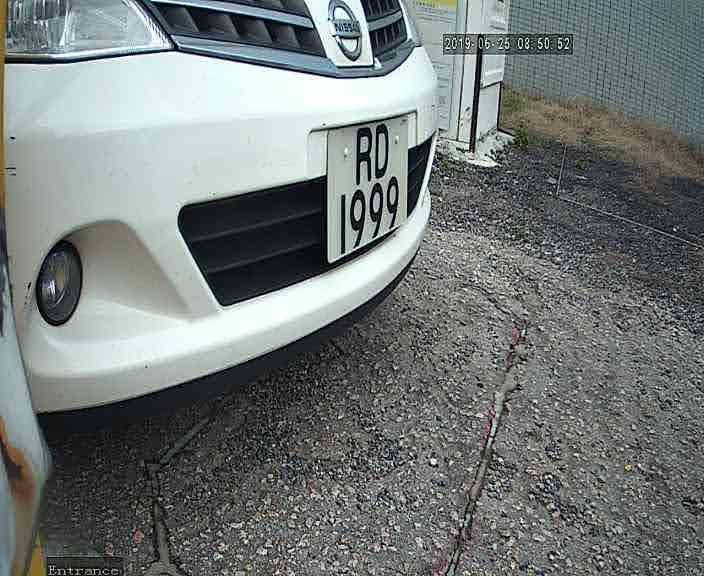privatecar: (2, 2, 473, 436)
